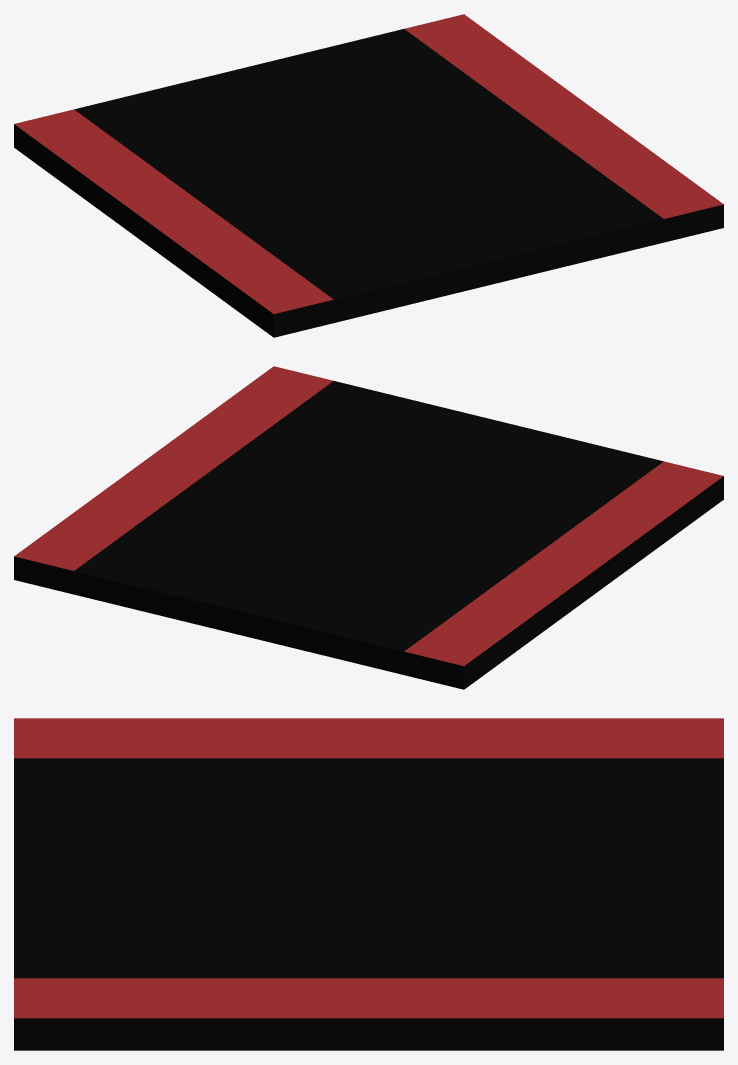
File: road_start.fbx
The picture shows the model from 3 angles, top to bottom: view 1: azimuth 30°, elevation 25°; view 2: azimuth 150°, elevation 25°; view 3: azimuth 270°, elevation 25°; orthographic projection. The views are drawn at different scales.
Visible parts, largest first — view 1: Cube.001; view 2: Cube.001; view 3: Cube.001.
Boxes of the visible parts, x1,y1,x2,y2 form: Cube.001: [14, 14, 723, 337]; Cube.001: [14, 366, 723, 689]; Cube.001: [14, 718, 723, 1050].
Size of the model in its own units: 200 by 10 by 200.
